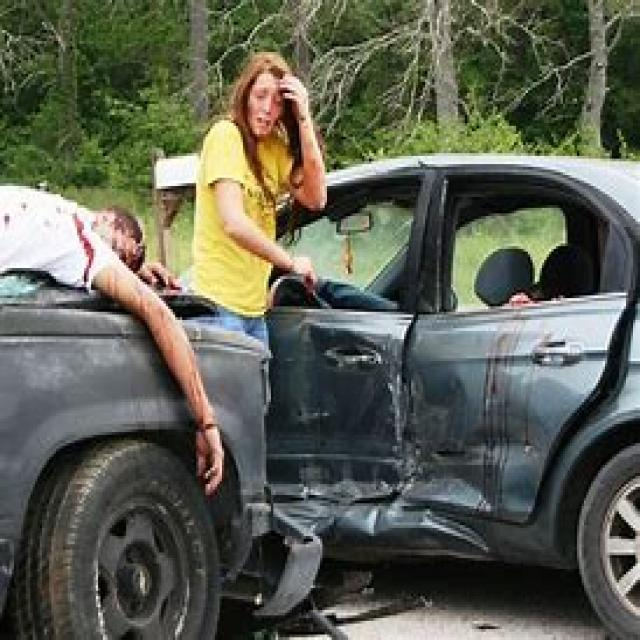Accident: (28, 106, 618, 640)
